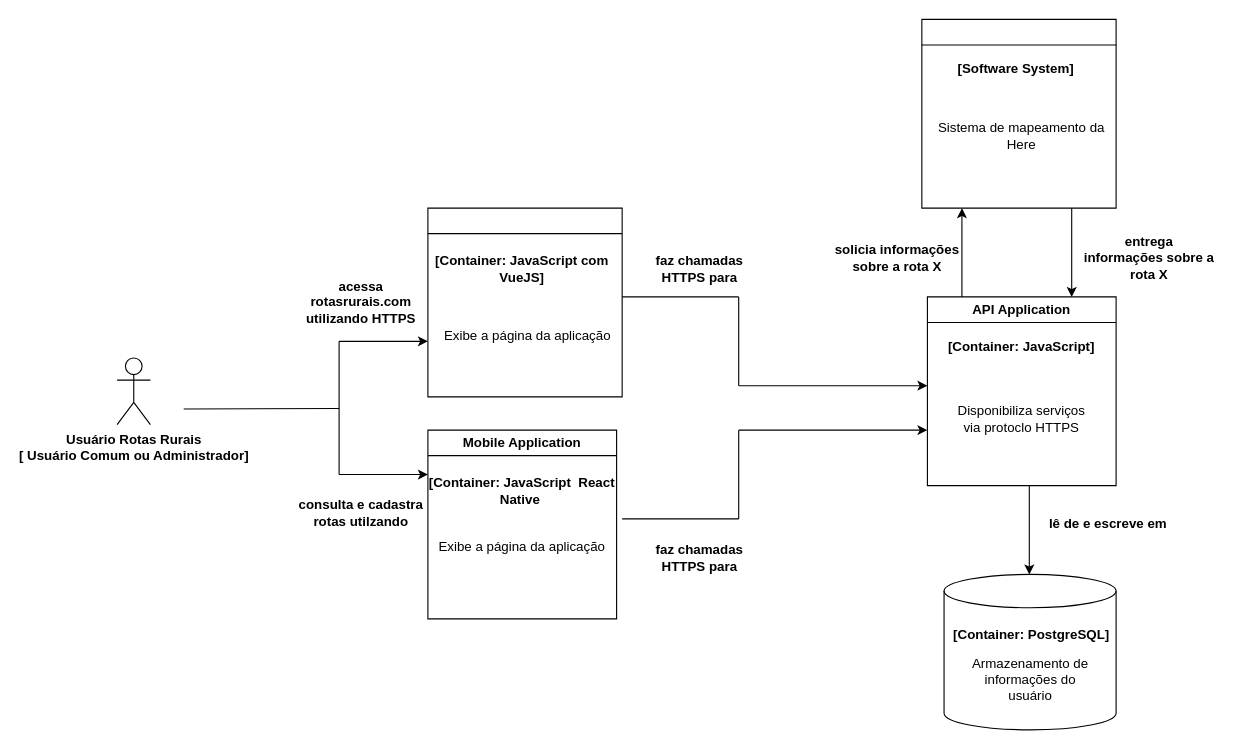
Image size: 1235x749. Some labels were removed from this diagram. The box of each missing label's shape, as (x1, y1, x2, y2) in pixels:
Maps System: (921, 18, 1116, 208)
Web Application: (427, 207, 622, 397)
